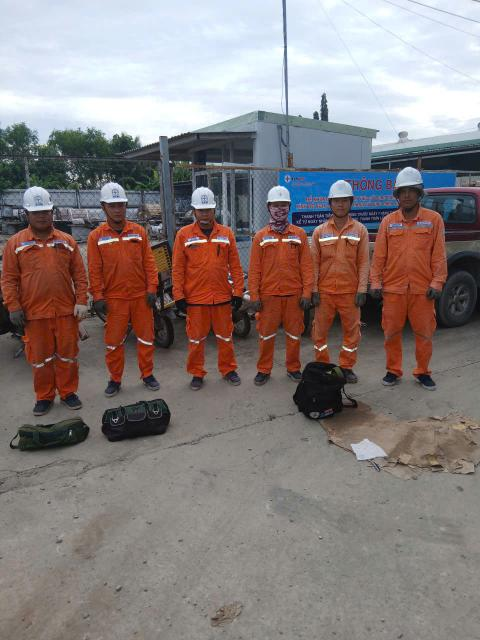gloves: (6, 306, 33, 332), (68, 299, 92, 323), (90, 293, 112, 316), (362, 279, 385, 299), (416, 284, 441, 302), (222, 296, 246, 314), (166, 298, 189, 314), (244, 298, 267, 314), (350, 289, 366, 307), (310, 289, 323, 306), (296, 297, 310, 311), (145, 291, 157, 304)
helmet: (16, 177, 59, 224), (86, 173, 131, 214), (389, 163, 429, 194), (321, 176, 357, 201), (183, 190, 221, 213), (262, 185, 291, 207)
shoes: (240, 358, 268, 390), (98, 369, 125, 402), (138, 367, 170, 393), (407, 365, 434, 394), (28, 398, 60, 422), (372, 362, 399, 389), (60, 389, 87, 414), (181, 366, 206, 392), (335, 364, 361, 387), (279, 366, 306, 386), (222, 371, 250, 389)
